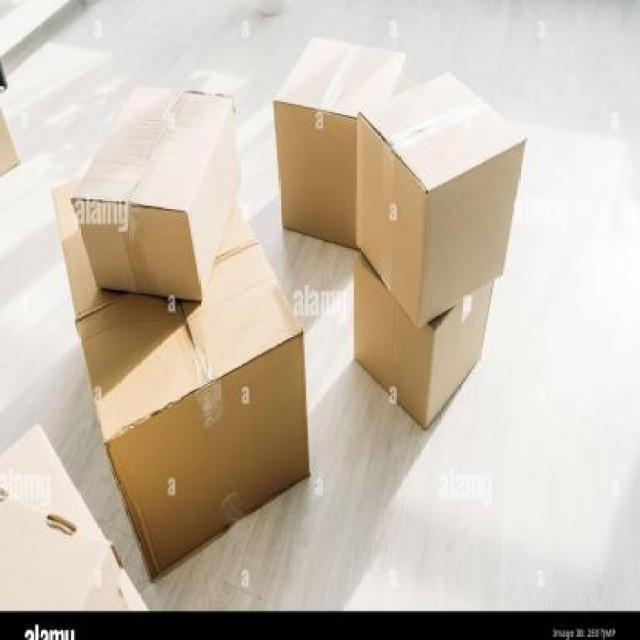box: (30, 171, 316, 579), (354, 69, 526, 331), (70, 79, 244, 308), (268, 27, 406, 268), (348, 244, 503, 441)
